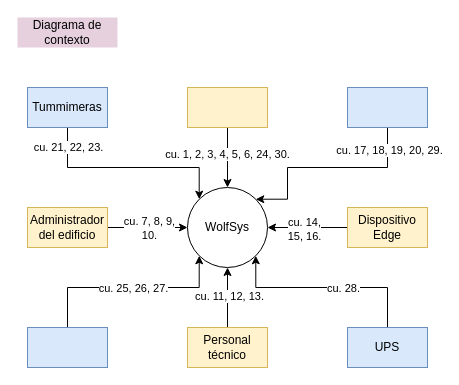
This 459x385 diagram has some shape labels left out. Here are the shapes that lost their labels. From the top down, the centre of each, then its label:
[227,107]: Agente de vigilancia
[387,107]: Residente/ Usuario final
[67,347]: IA scoring
